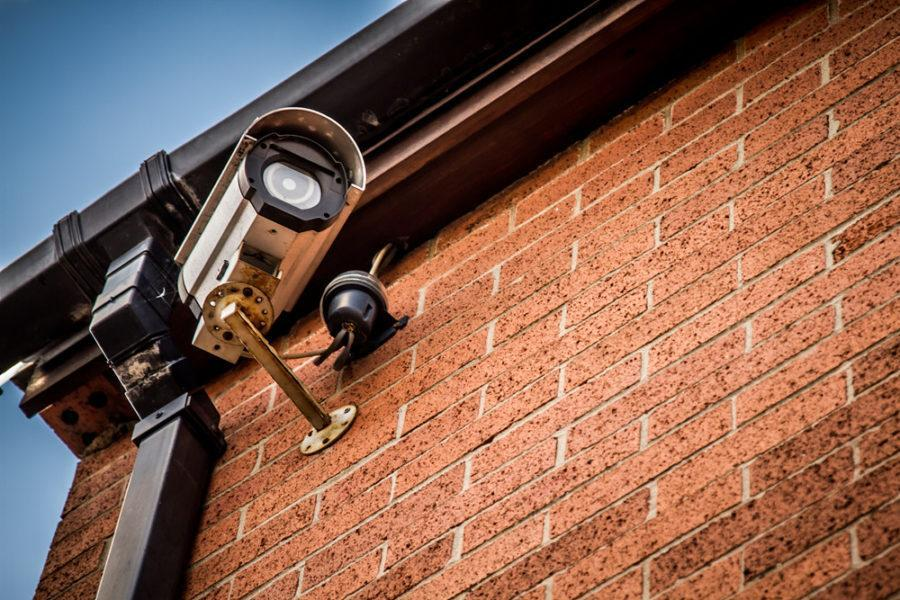camera: (66, 77, 427, 414)
